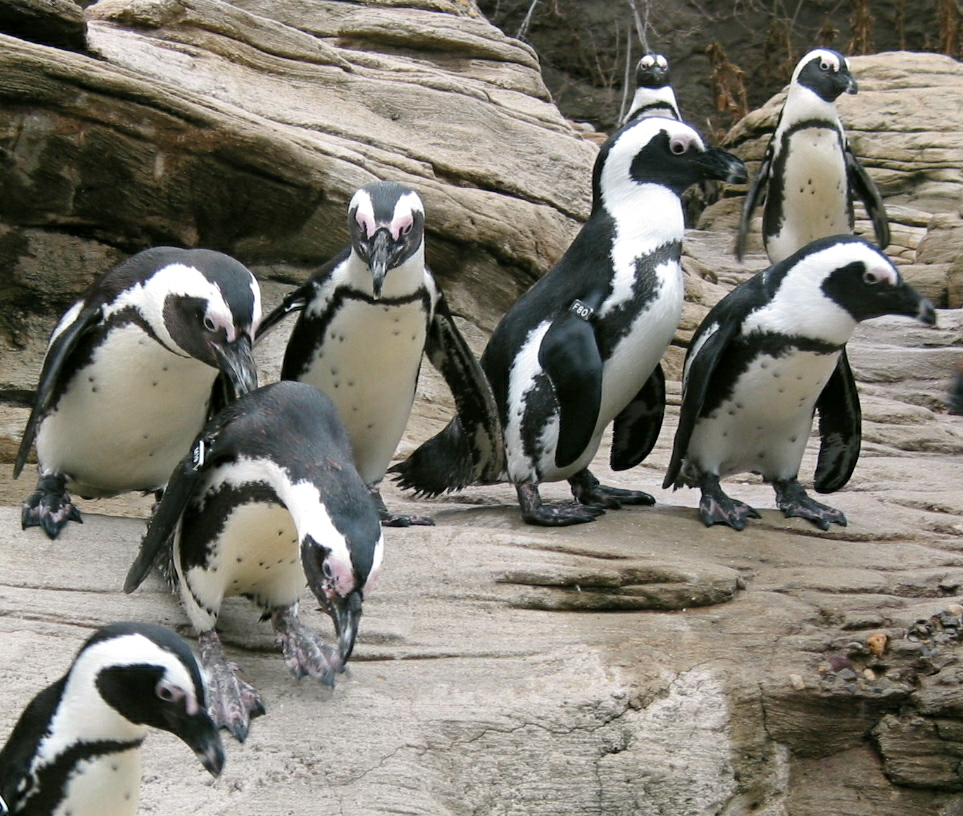penguin: (385, 118, 749, 522), (659, 234, 939, 530), (126, 380, 384, 688), (261, 180, 500, 505), (11, 247, 267, 546), (4, 628, 228, 816), (743, 51, 893, 266), (619, 46, 690, 134)
